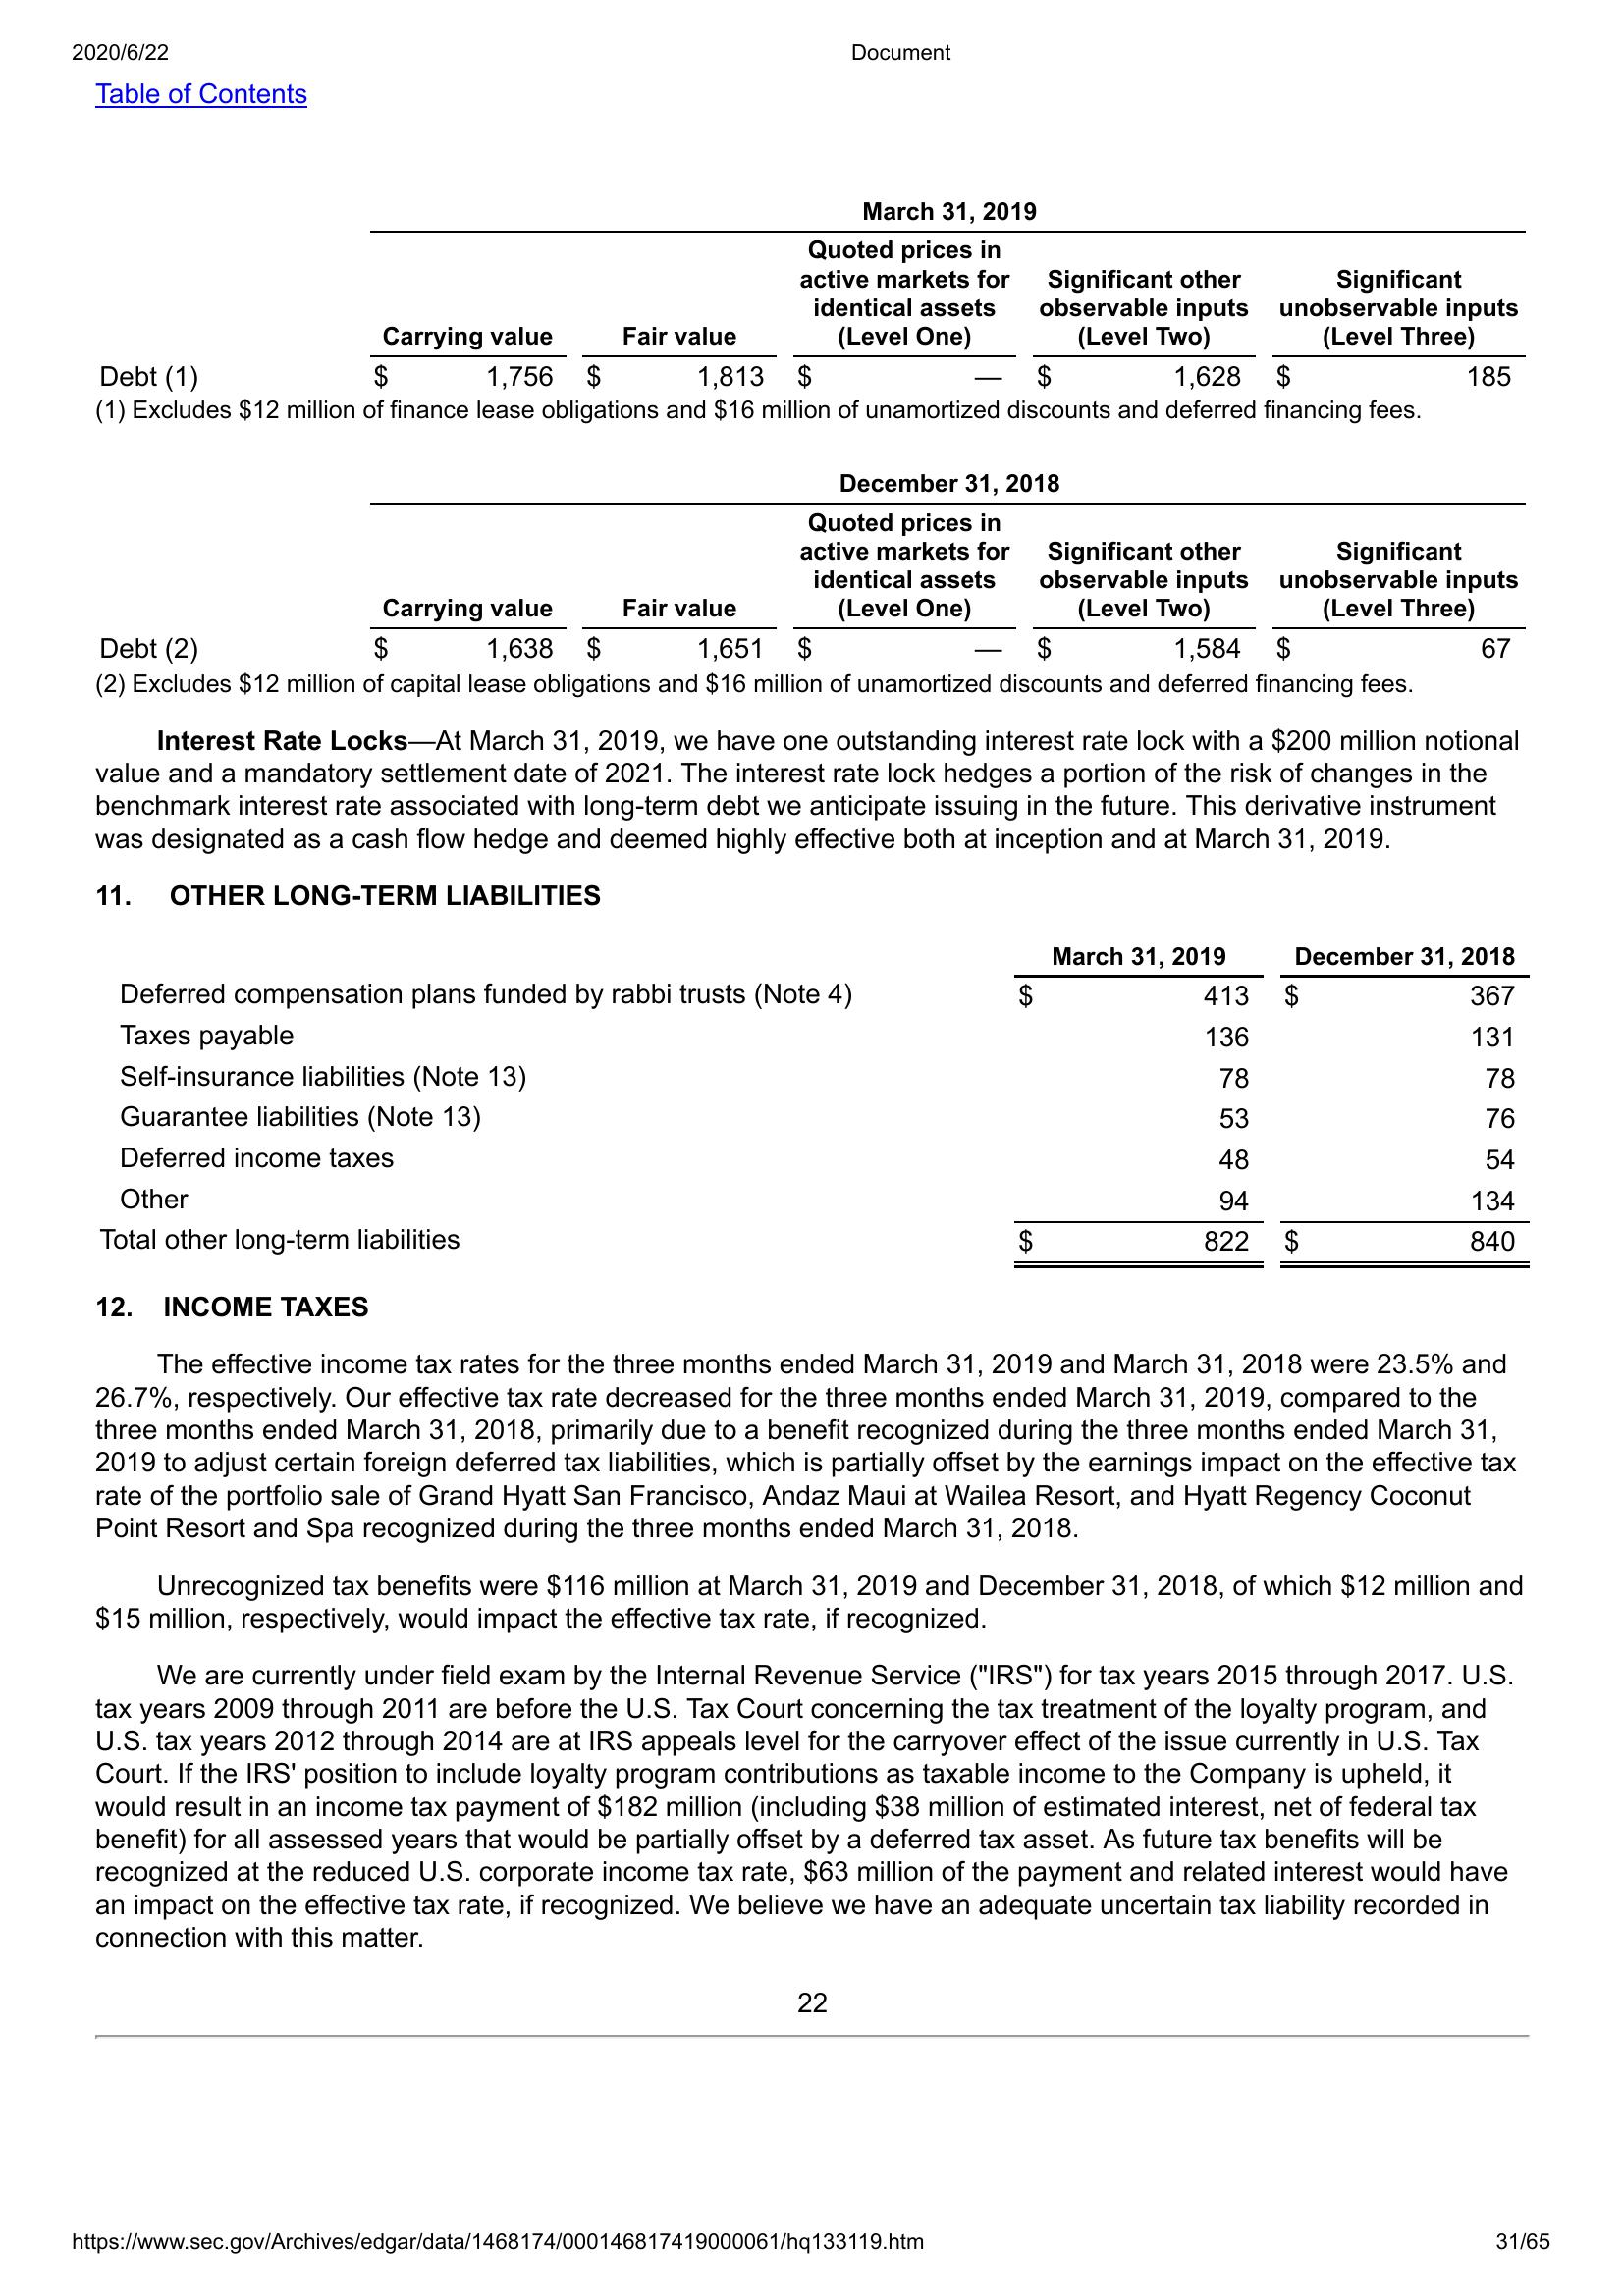table: (77, 190, 1540, 664), (95, 932, 1540, 1280)
